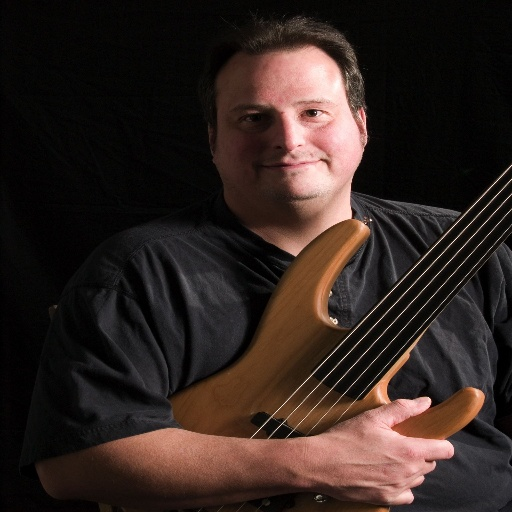hand: (263, 392, 479, 495)
